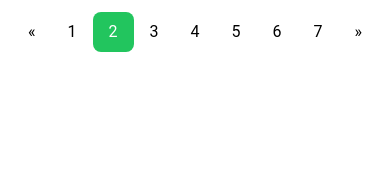
Test: Pagination component › should be visible previous
The width and height of the screenshot is (379, 172).
Click the button "«". click: (32,32)
box: x1=12 y1=12 x2=52 y2=52
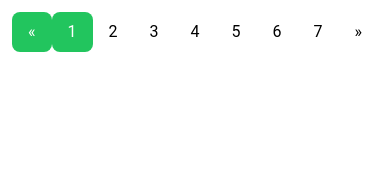
Expected: the button "«" is disabled, x1=12 y1=12 x2=52 y2=52
